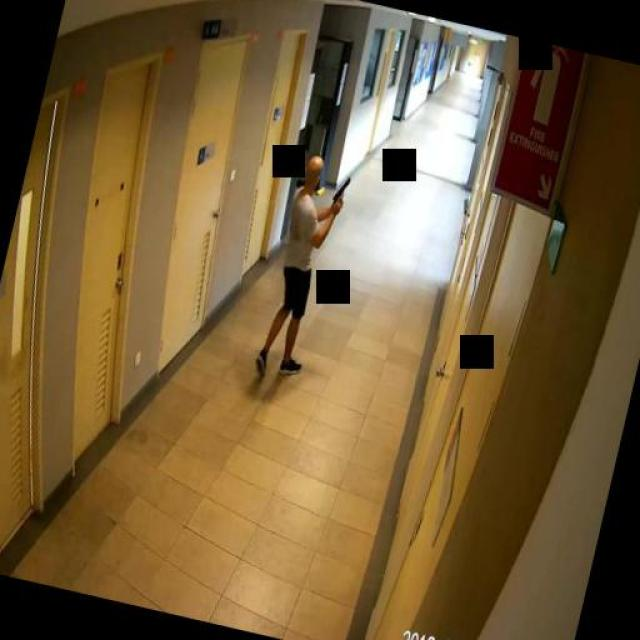gun: (330, 174, 349, 208)
